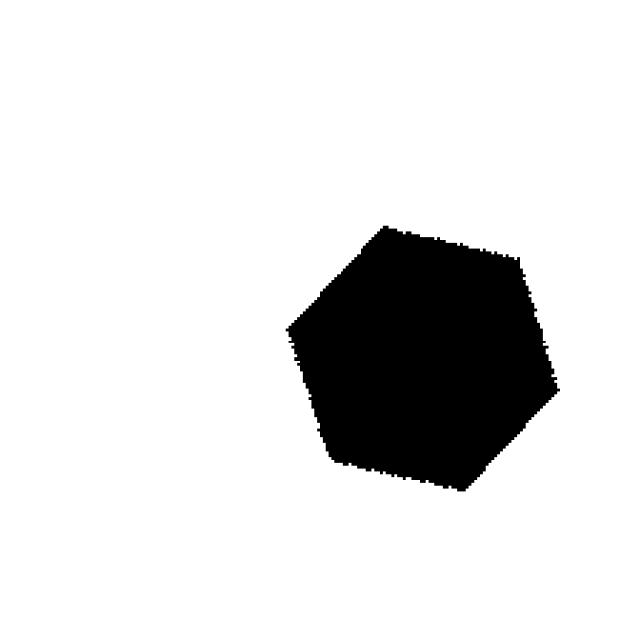Hexagon: (267, 191, 574, 510)
